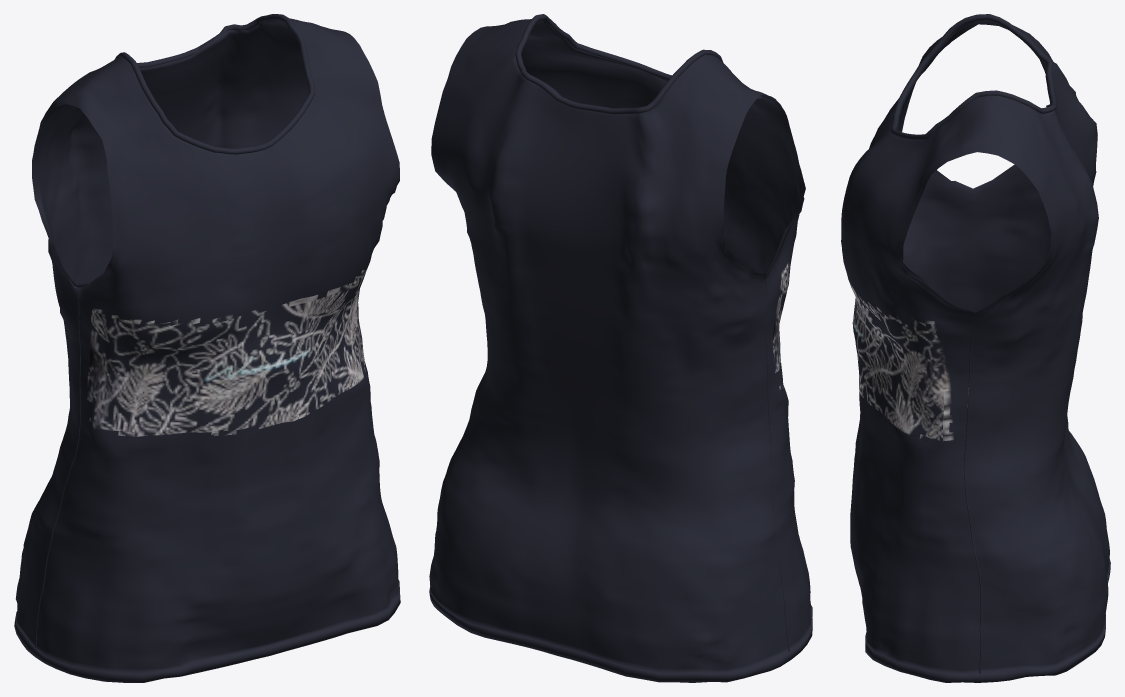
The picture shows the model from 3 angles, left to right: view 1: azimuth 30°, elevation 25°; view 2: azimuth 150°, elevation 25°; view 3: azimuth 270°, elevation 25°; orthographic projection. The views are drawn at different scales.
Parts seen in each view (by area): view 1: Plane.003; view 2: Plane.003; view 3: Plane.003.
Boxes of the visible parts, left/top/right/bottom form: Plane.003: left=14, top=14, right=400, bottom=682; Plane.003: left=429, top=14, right=812, bottom=682; Plane.003: left=841, top=14, right=1110, bottom=682.
Bounding box in the file's own units: 41.11 × 66.74 × 29.11.
